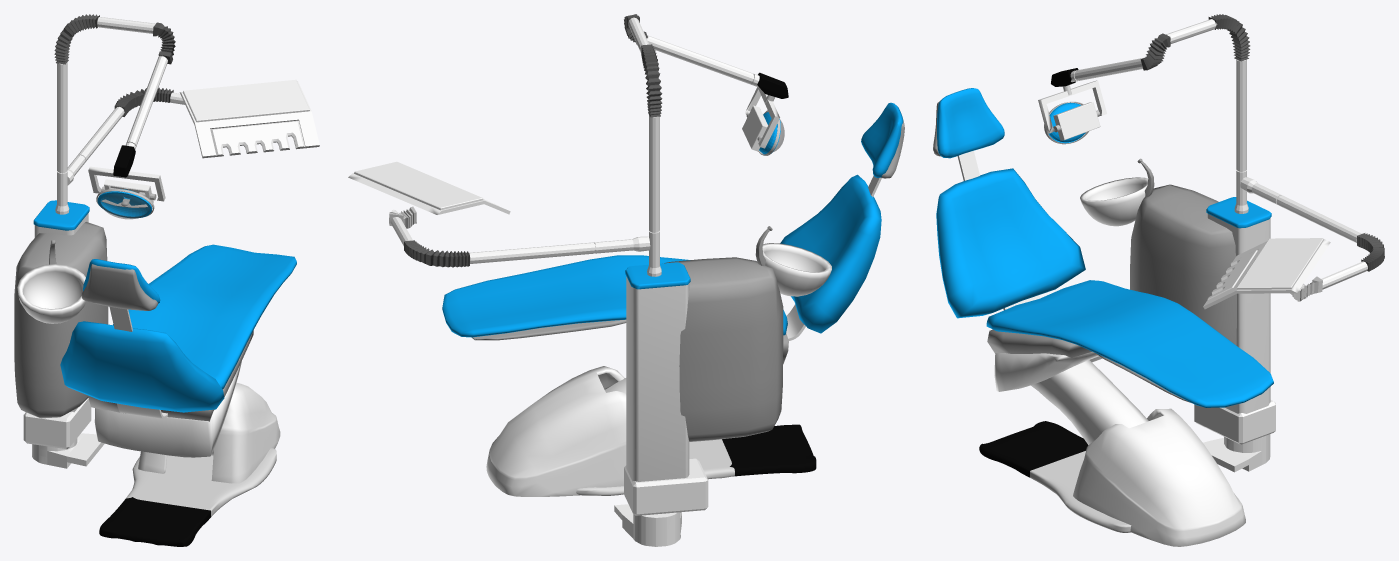
Rendered from Dentist_Chair.fbx.
3 views of the same model, side by side, from view 1: azimuth 30°, elevation 25°; view 2: azimuth 150°, elevation 25°; view 3: azimuth 270°, elevation 25° (orthographic). The views are drawn at different scales.
Visible parts, largest first — view 1: Base (×2), leg_cushion, body_cushion, Cover, Base2, Holder, center_frame, Bowl1, head, rod3, base, rod5 (+13 smaller); view 2: Base (×2), Holder, Base2, leg_cushion, body_cushion, Cover, Bowl1, rod2, head_cushion, rod3, rod5, base (+3 smaller); view 3: leg_cushion, Base (×2), Base2, body_cushion, Holder, Cover, Frame_holder, head_cushion, center_frame, Bowl1, base, center (+8 smaller).
Part boxes in pixels (x1,y1,x2,y2): Base (×2): (14,222,276,546); leg_cushion: (113,244,296,389); body_cushion: (60,321,224,412); Cover: (179,79,319,158); Base2: (138,382,280,483); Holder: (23,200,104,468); center_frame: (94,361,241,457); Bowl1: (17,264,86,323); head: (81,264,158,310); rod3: (55,62,69,214); base: (88,166,165,206); rod5: (125,55,167,149); Base (×2): (576,257,816,495); Holder: (614,262,708,546); Base2: (486,366,626,496); leg_cushion: (442,255,787,337); body_cushion: (780,174,881,333); Cover: (348,161,510,214); Bowl1: (762,243,831,296); rod2: (469,236,650,263); head_cushion: (861,102,903,177); rod3: (647,115,661,276); rod5: (647,35,759,87); base: (742,87,779,151); leg_cushion: (986,280,1273,407); Base (×2): (979,184,1236,532); Base2: (1073,408,1245,546); body_cushion: (936,168,1085,318); Holder: (1194,197,1275,472); Cover: (1203,238,1330,309); Frame_holder: (1031,360,1148,444); head_cushion: (937,88,1004,158); center_frame: (994,351,1102,391); Bowl1: (1080,177,1148,226); base: (1038,80,1106,140); center: (987,329,1091,358).
Bounding box in the file's own units: 171 × 200 × 180.
